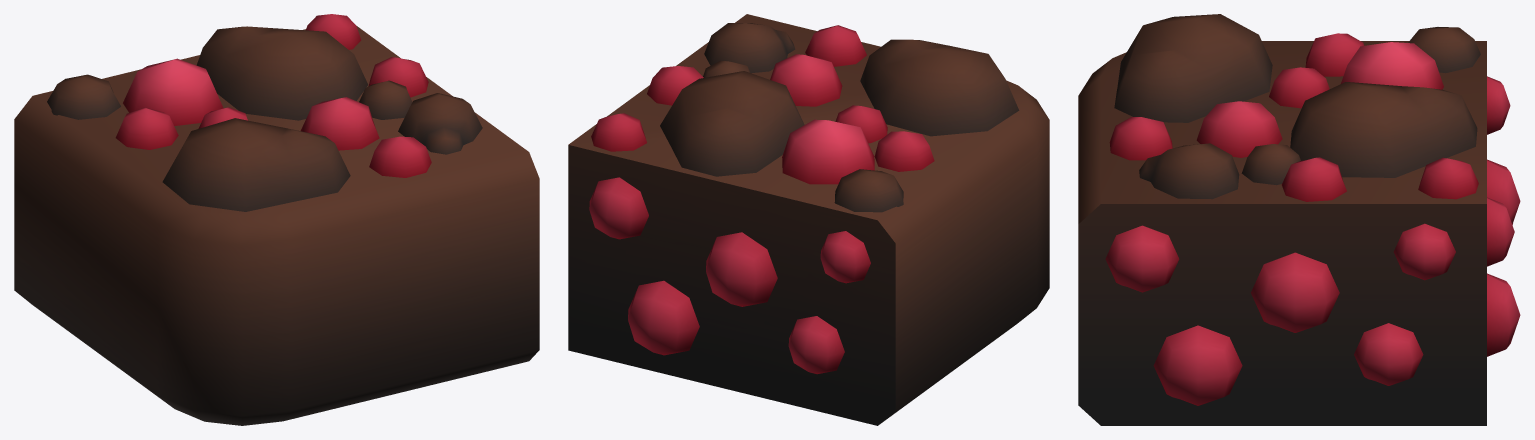
The model's file is m_SheetCake02_Slice01.fbx.
3 views of the same model, side by side, from view 1: azimuth 30°, elevation 25°; view 2: azimuth 150°, elevation 25°; view 3: azimuth 270°, elevation 25° (orthographic). The views are drawn at different scales.
Visible parts, largest first — view 1: m_SheetCake02_Slice01; view 2: m_SheetCake02_Slice01; view 3: m_SheetCake02_Slice01.
Part boxes in pixels (x1,y1,x2,y2): m_SheetCake02_Slice01: [14, 14, 539, 425]; m_SheetCake02_Slice01: [568, 14, 1049, 425]; m_SheetCake02_Slice01: [1078, 14, 1520, 425].
Size of the model in its own units: 10.82 by 7.57 by 10.82.
